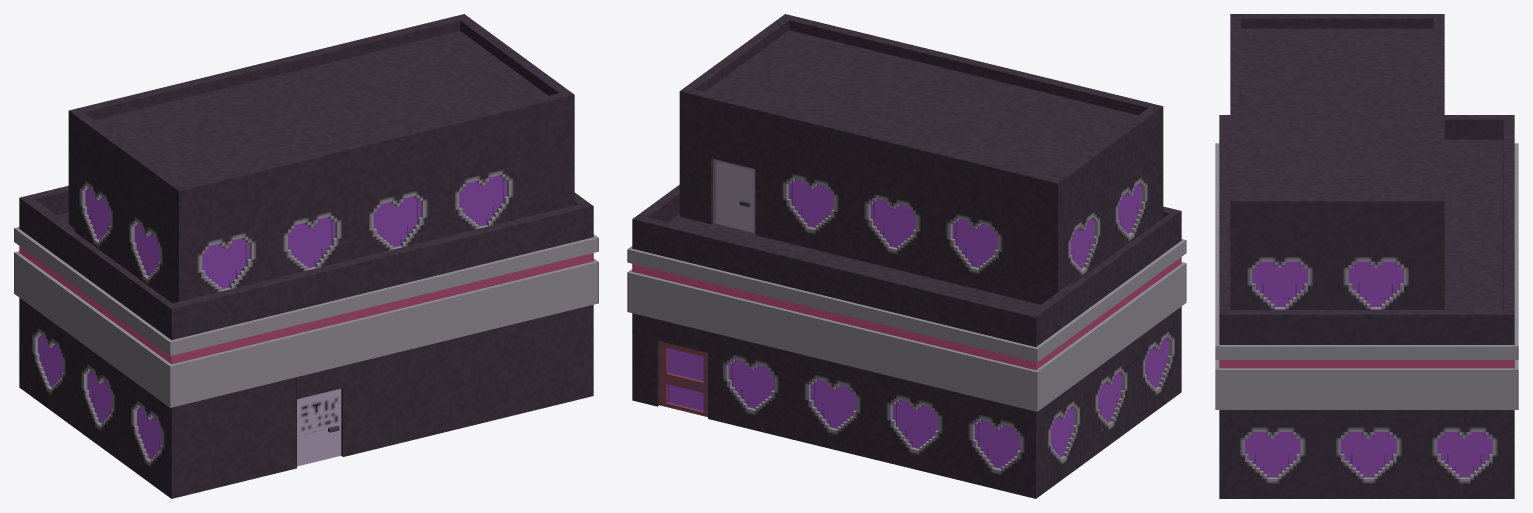
File: burdel.dae
3 renders of one model, left to right at view 1: azimuth 30°, elevation 25°; view 2: azimuth 150°, elevation 25°; view 3: azimuth 270°, elevation 25°, orthographic. The views are drawn at different scales.
Parts seen in each view (by area): view 1: Content; view 2: Content; view 3: Content.
Part boxes in pixels (<box>): Content: <box>14,14,598,498</box>; Content: <box>627,14,1186,498</box>; Content: <box>1215,14,1518,498</box>.
Size of the model in its own units: 130 by 87 by 82.
Materials: 1 (1 with a texture image).
